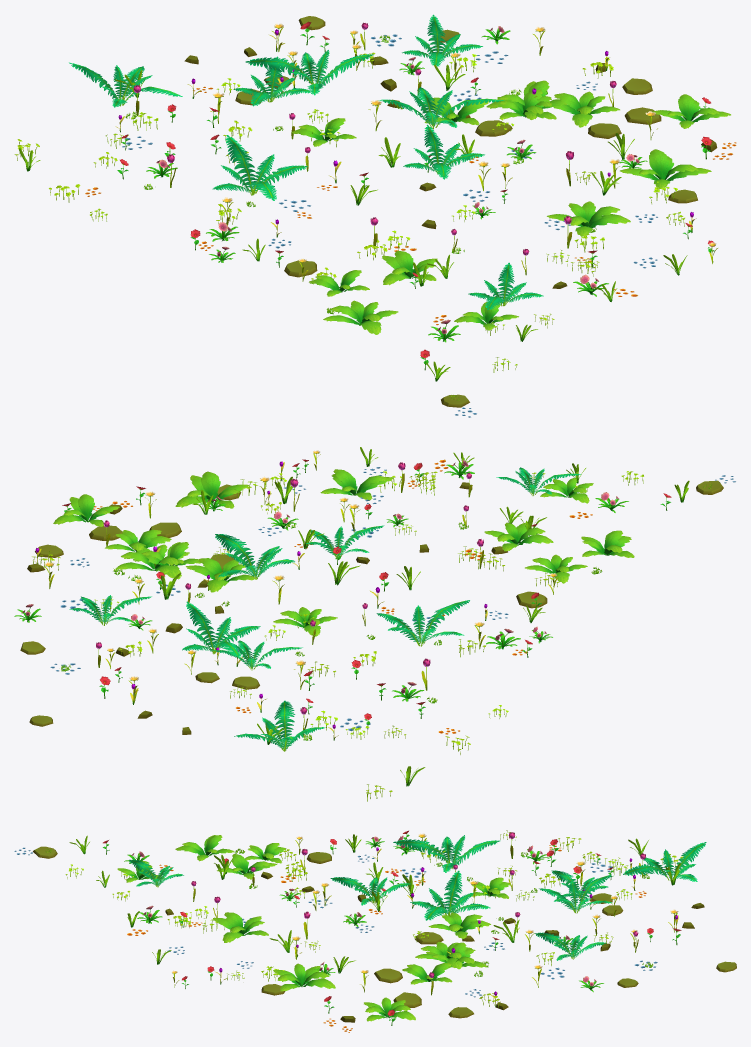
The model's file is Flores2.fbx.
3 renders of one model, top to bottom at view 1: azimuth 30°, elevation 25°; view 2: azimuth 150°, elevation 25°; view 3: azimuth 270°, elevation 25°, orthographic. The views are drawn at different scales.
Parts seen in each view (by area): view 1: Plane.022; view 2: Plane.022; view 3: Plane.022.
Part boxes in pixels (x1,y1,x2,y2): Plane.022: (14, 14, 736, 417); Plane.022: (14, 447, 735, 801); Plane.022: (14, 830, 736, 1032).
Size of the model in its own units: 5.61 by 0.9626 by 7.96.
2 materials, 1 textured.
